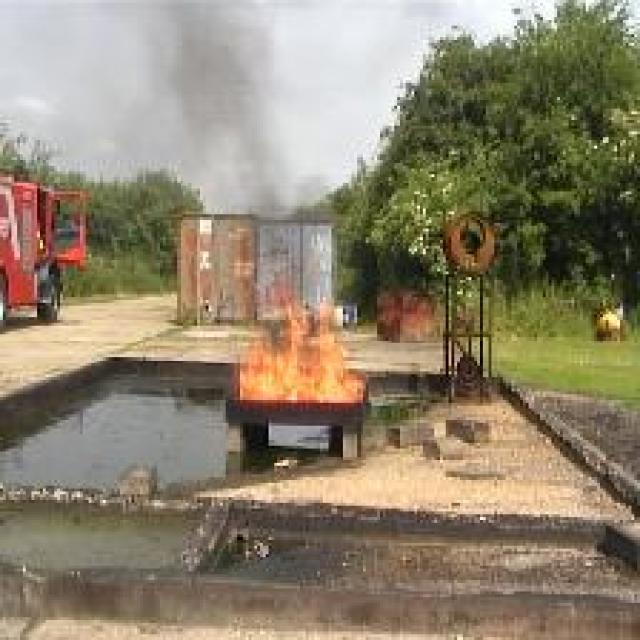Fire: (239, 272, 367, 404)
